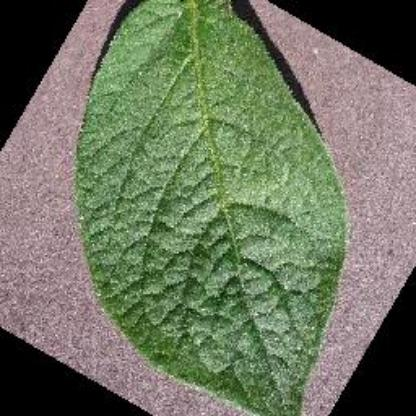Healthy-plant: (70, 3, 375, 414)
